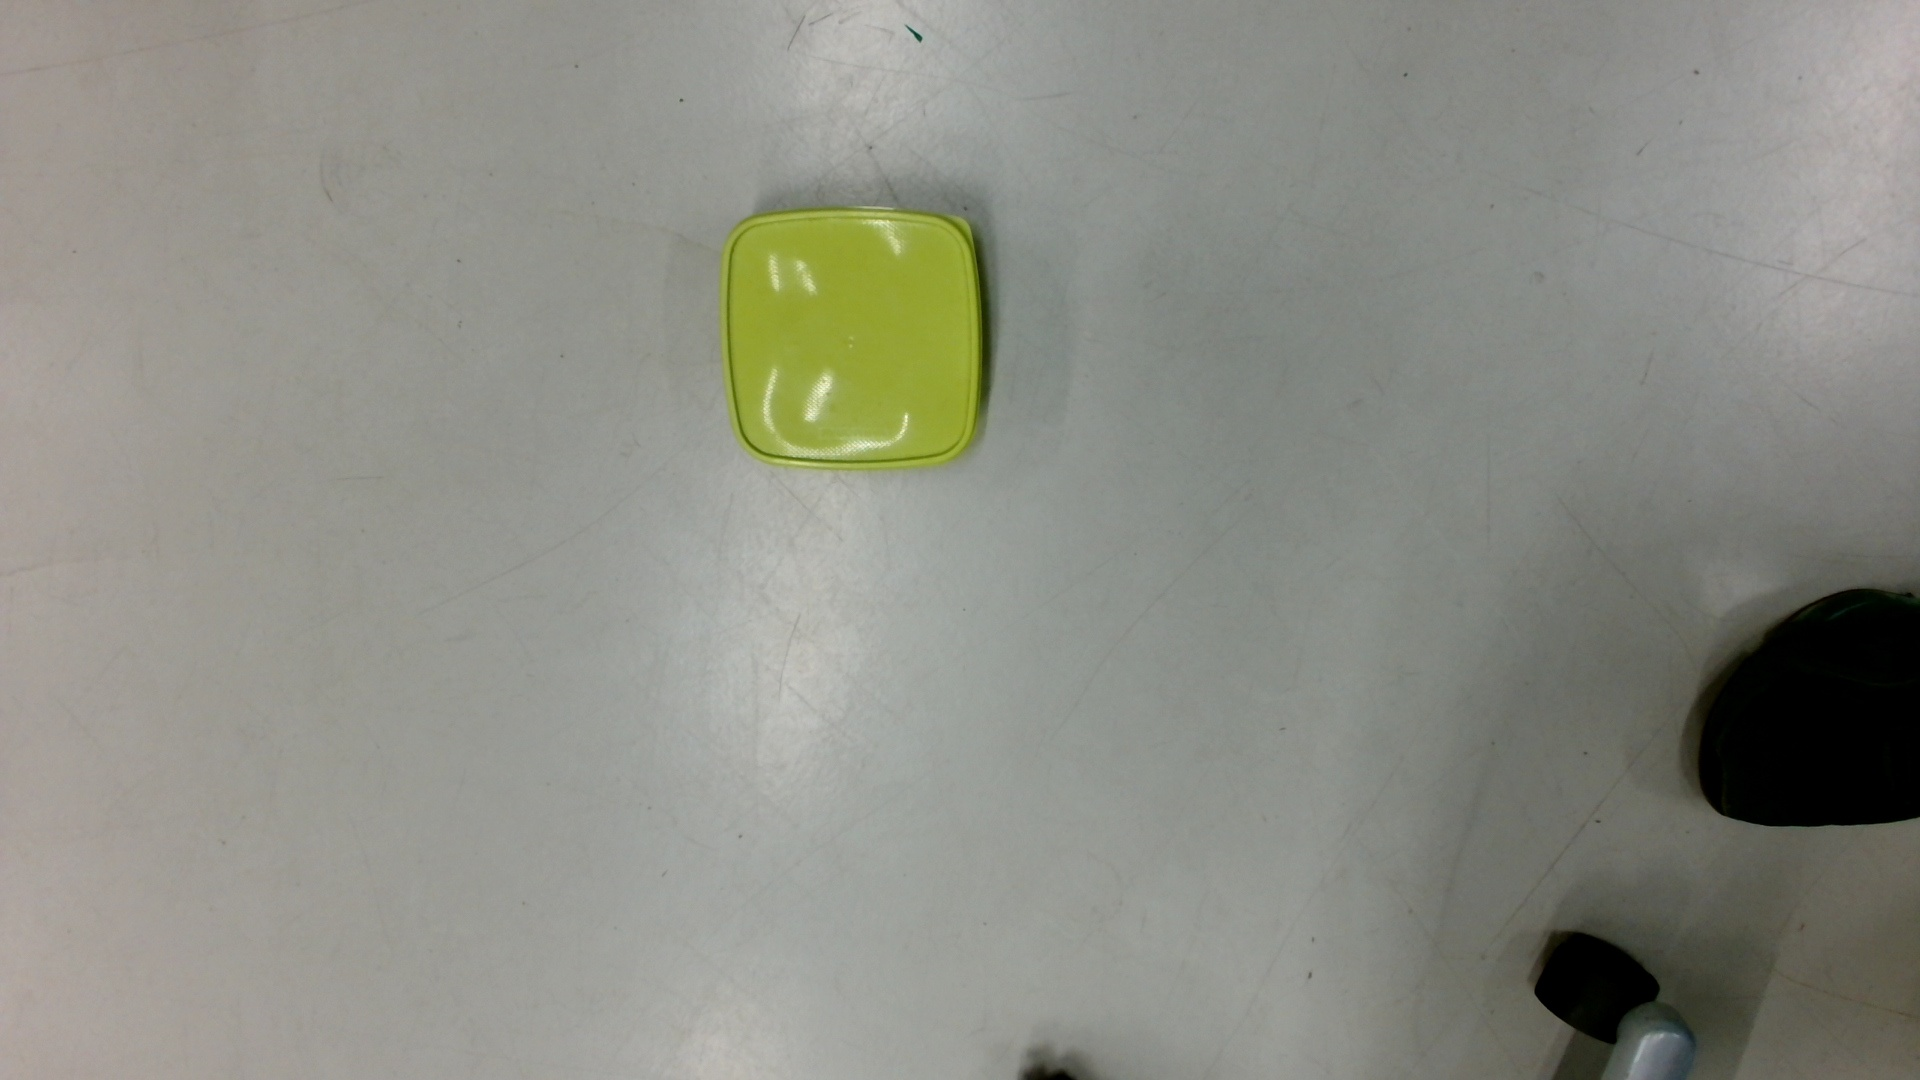Box: (709, 196, 996, 481)
